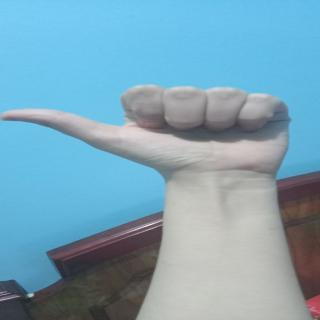DAD: (0, 82, 309, 163)
